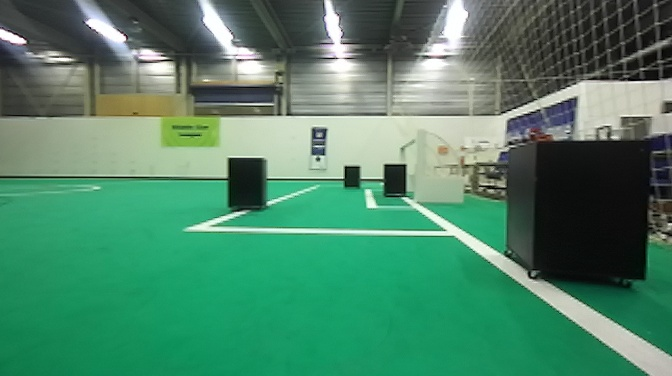goalpost: (412, 130, 425, 204), (397, 147, 406, 164)
